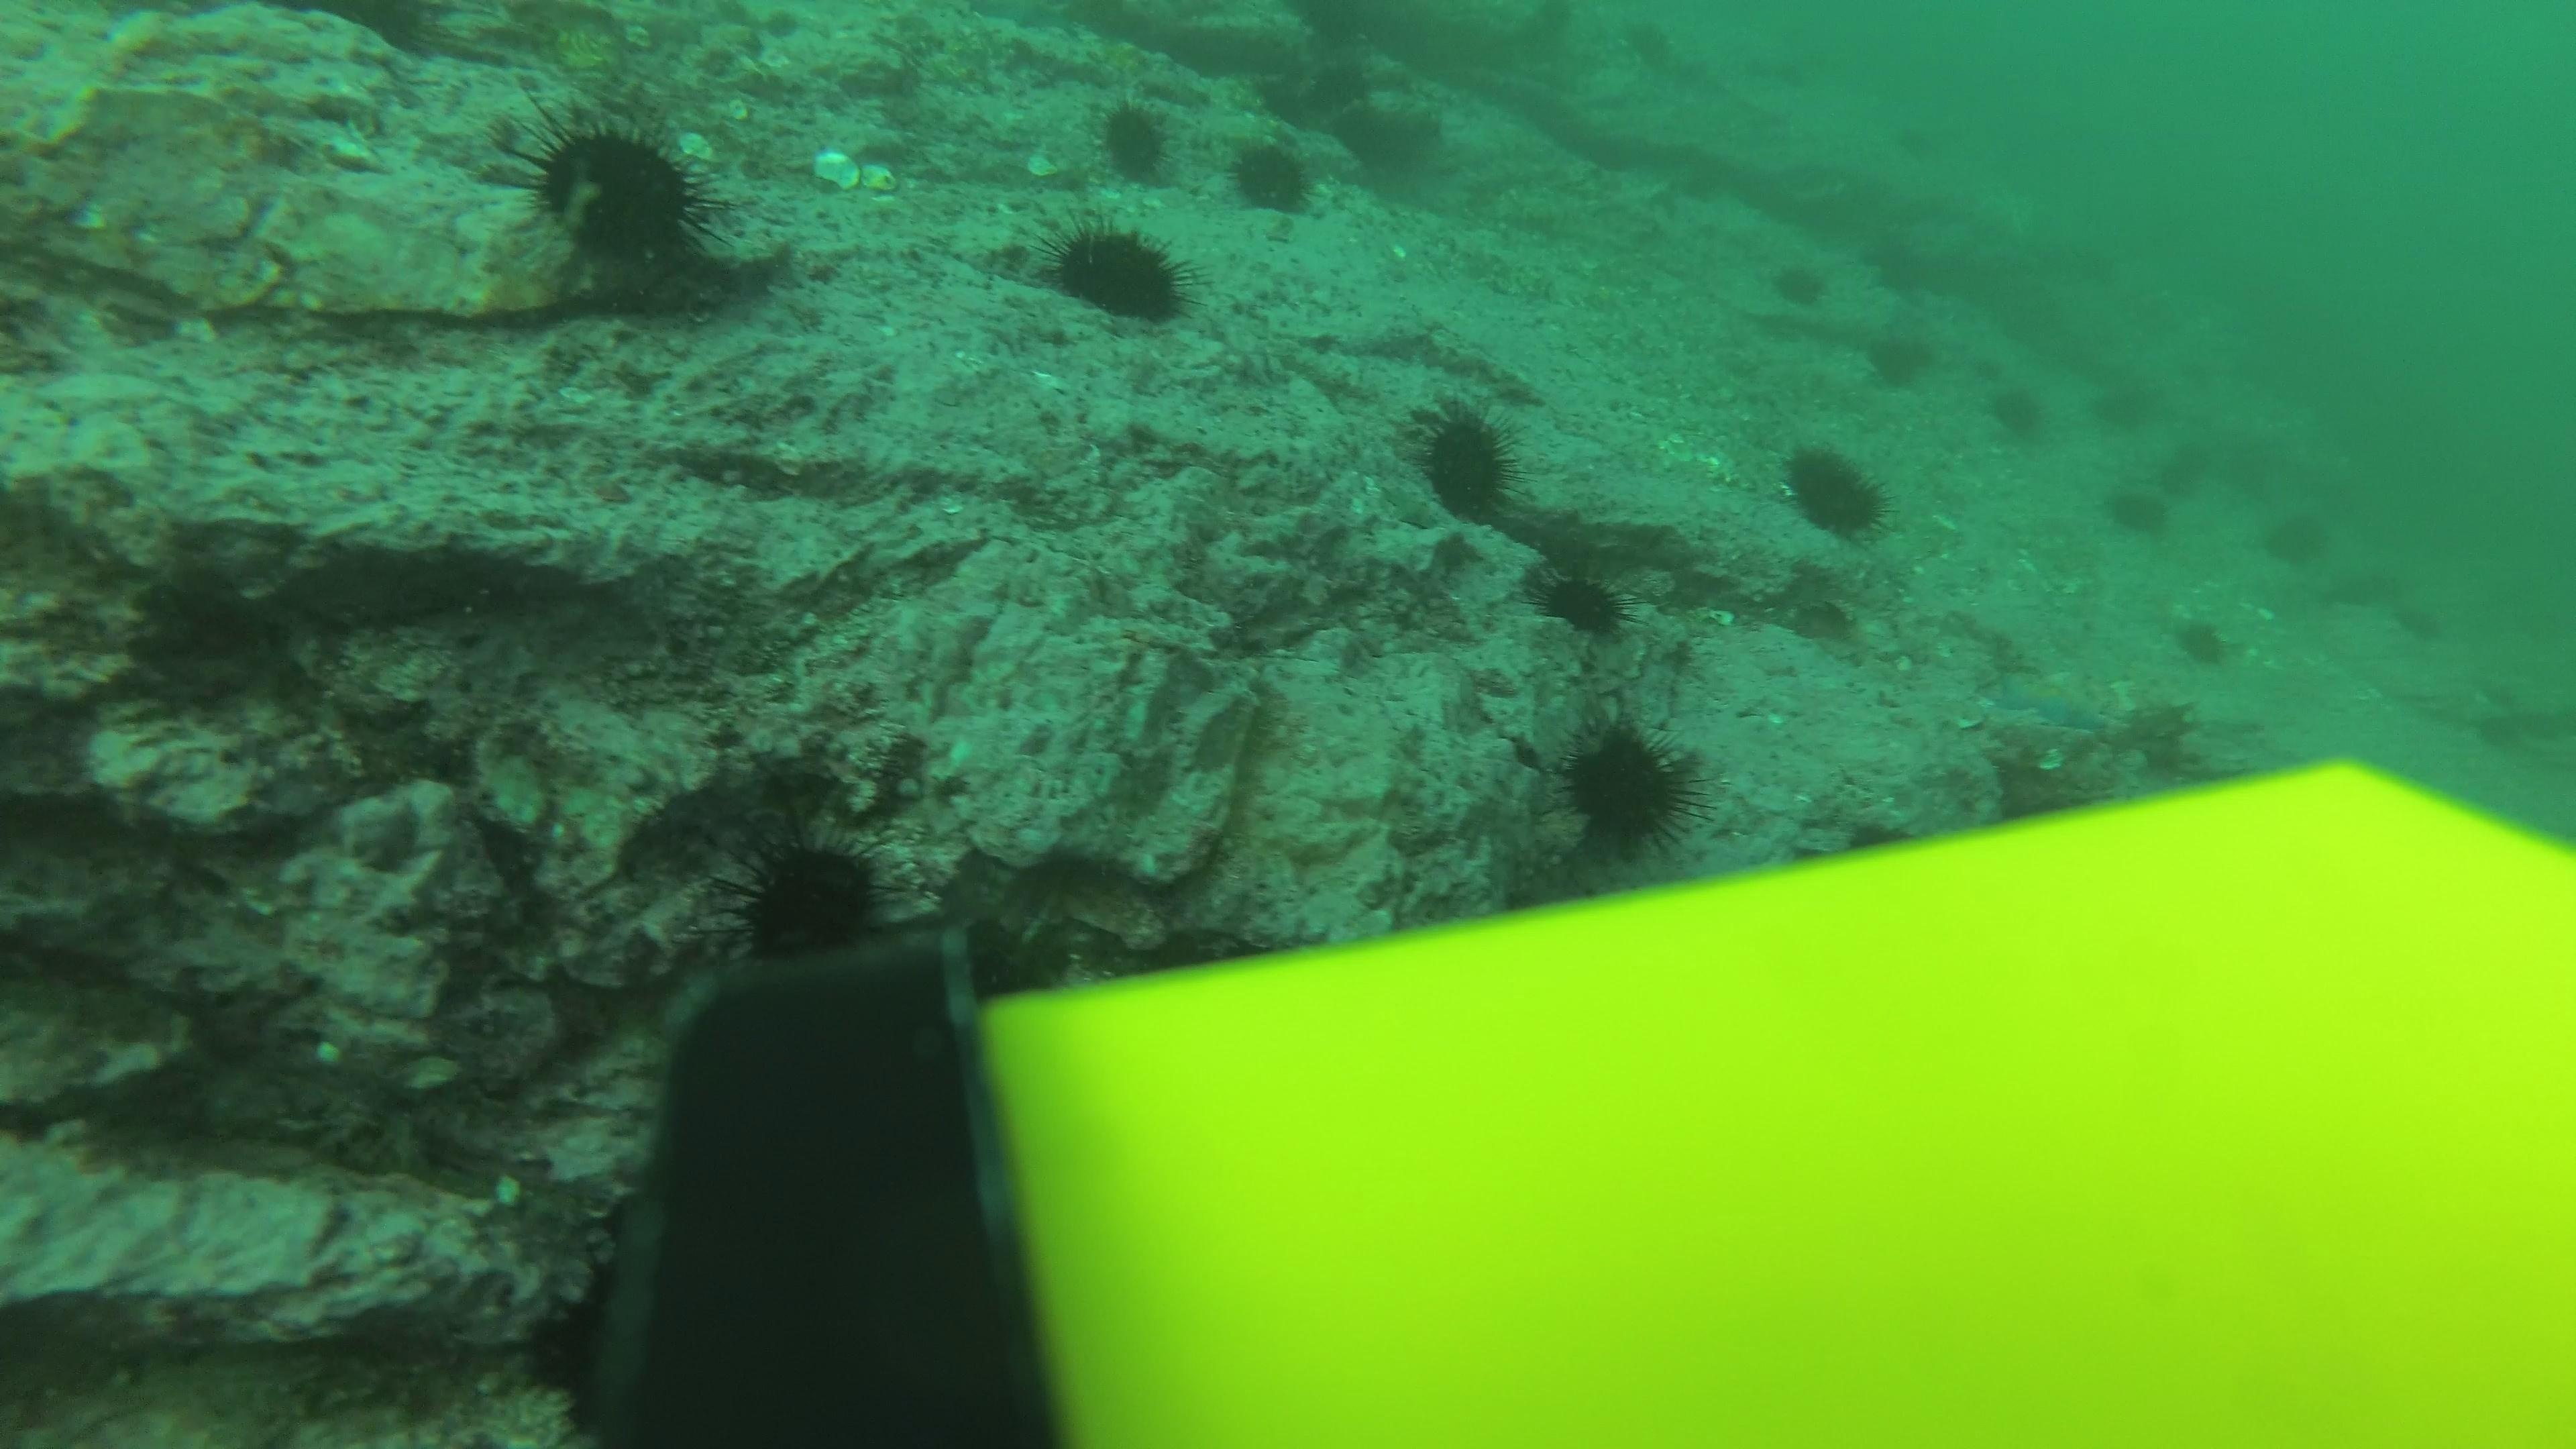echinus: (511, 108, 722, 278), (717, 826, 893, 964), (1552, 713, 1707, 860), (1040, 216, 1192, 329), (1403, 396, 1527, 529), (1325, 85, 1451, 195), (1776, 439, 1893, 541), (1525, 557, 1633, 644), (1221, 131, 1323, 221), (1086, 94, 1182, 188), (1859, 320, 1937, 393), (2258, 501, 2335, 571), (2100, 476, 2176, 541), (1982, 375, 2051, 444), (1764, 253, 1833, 311), (1856, 239, 1925, 297), (1877, 111, 1946, 170), (1615, 18, 1684, 76), (2171, 610, 2235, 671), (2387, 596, 2452, 651), (2089, 382, 2153, 437), (2173, 441, 2226, 476), (2150, 467, 2203, 501), (1732, 50, 1773, 85), (1775, 58, 1813, 94)
starfish: (1980, 663, 2116, 736), (962, 0, 1081, 35)
